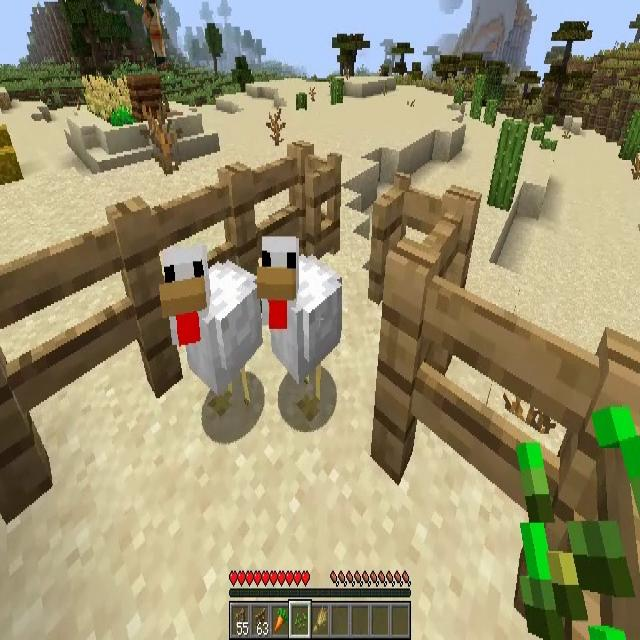duck: (162, 246, 260, 414), (258, 238, 344, 394)
